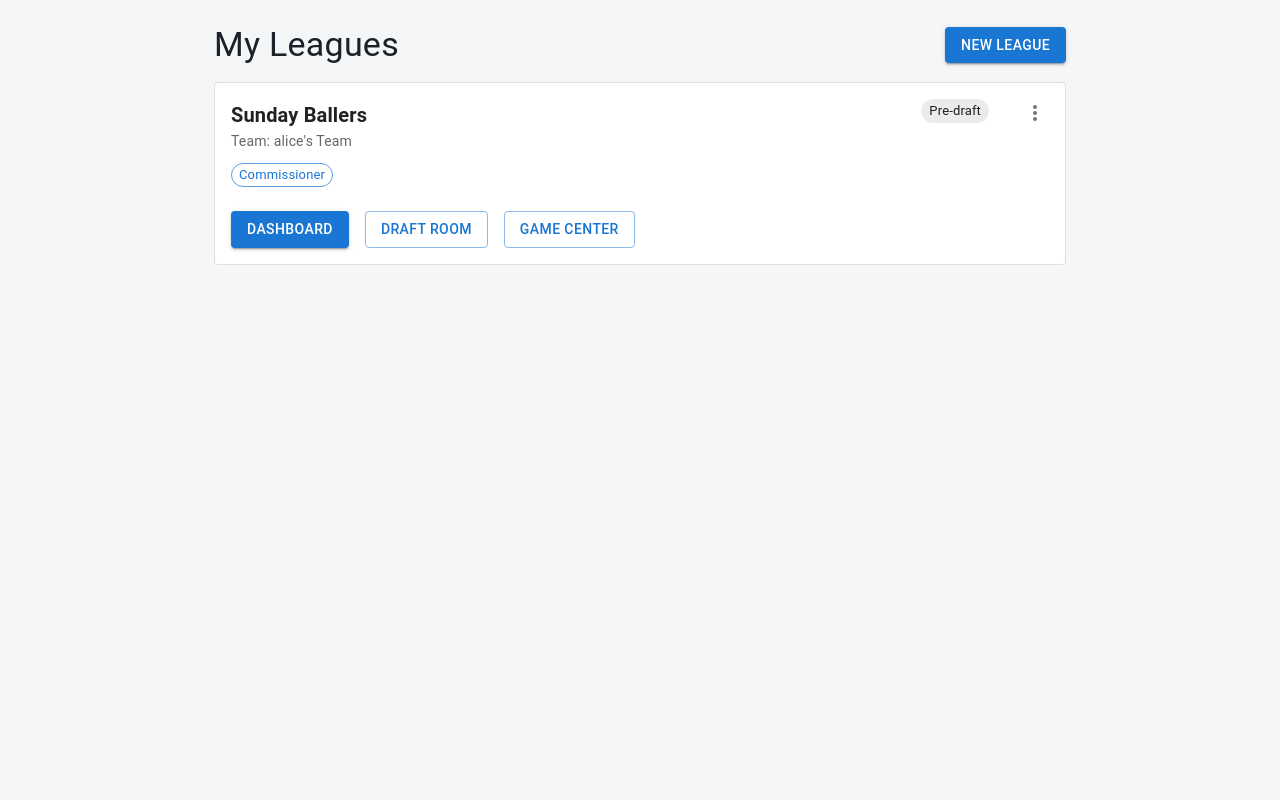
a delete whose refetch fails keeps the card and the error, with no Try again
Check: the heading "Sunday Ballers" is shown, box 231,99 -> 367,131
Click the button named "League actions for ".
click(1035, 113)  # box 1013,91 -> 1057,135
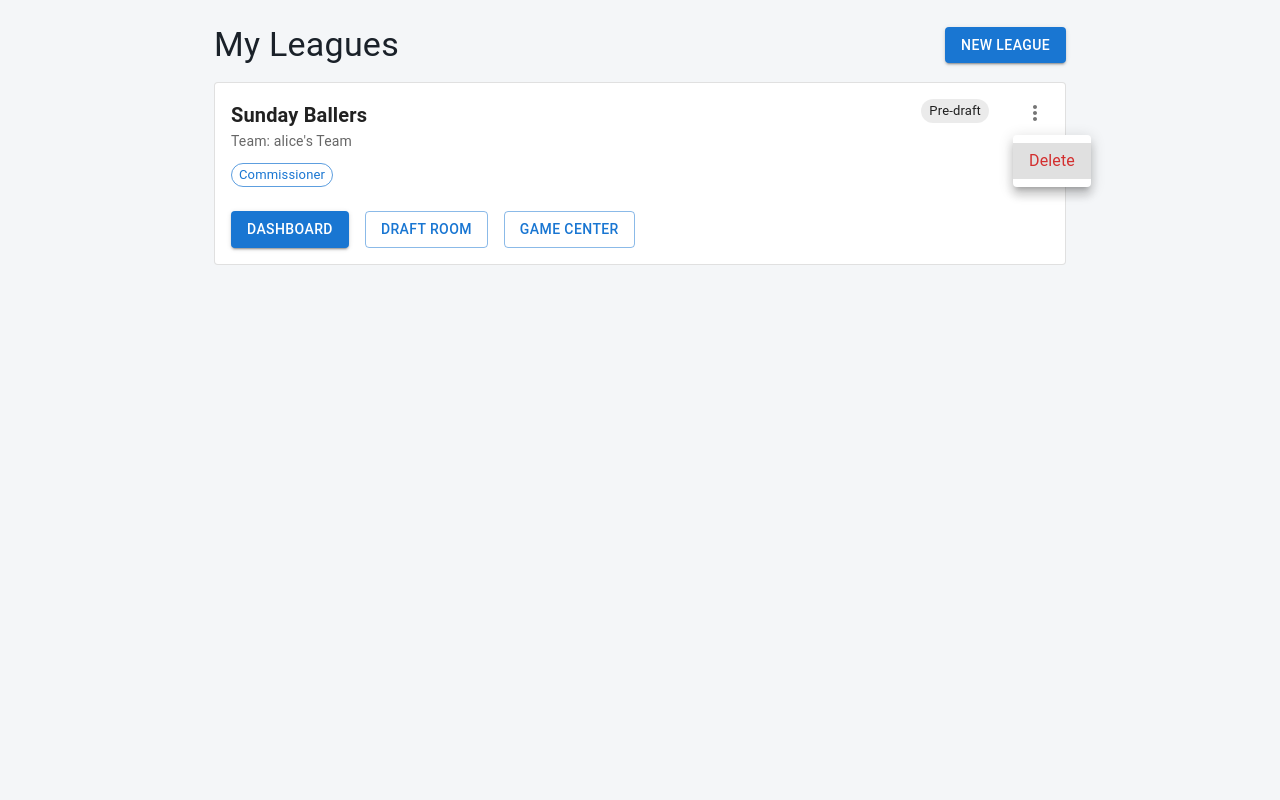
Click the menu item "Delete".
click(1052, 161)  # box 1013,143 -> 1091,179
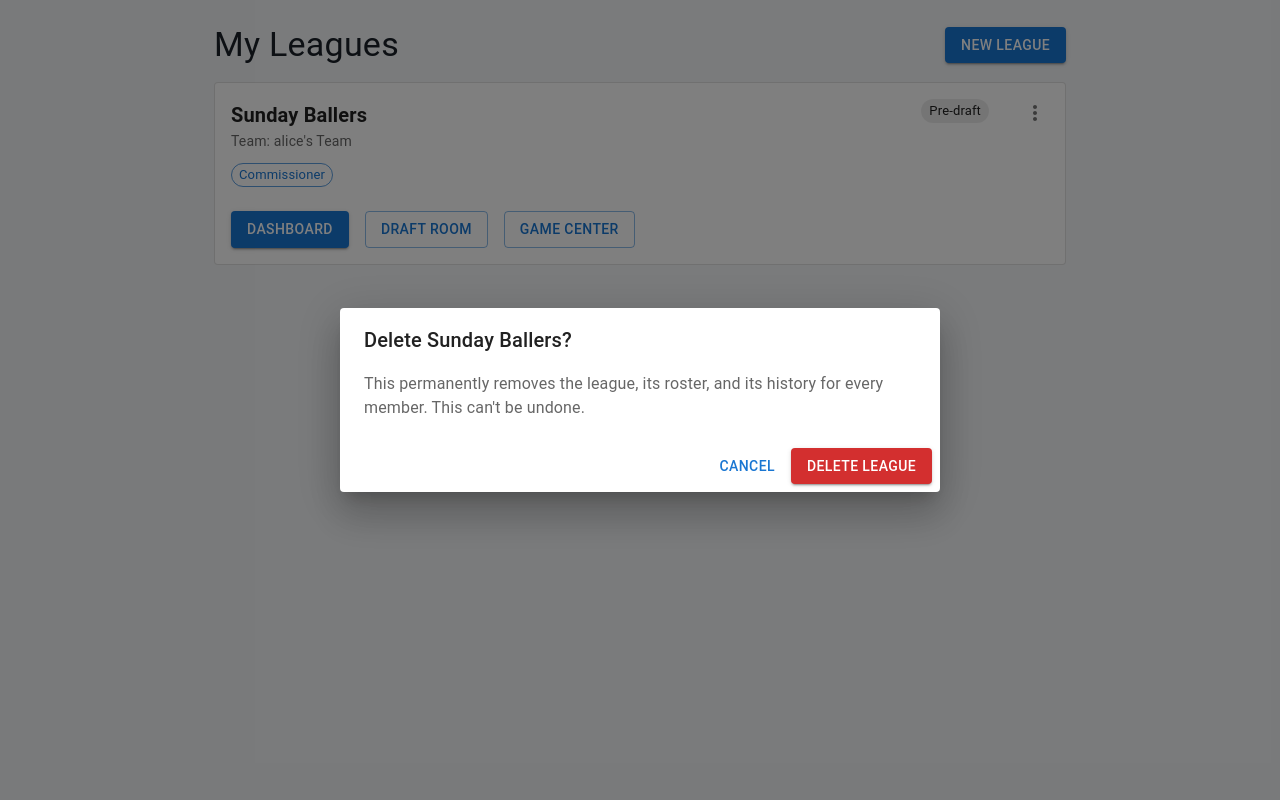
Click the button "Delete League".
click(861, 466)  # box 791,448 -> 932,484
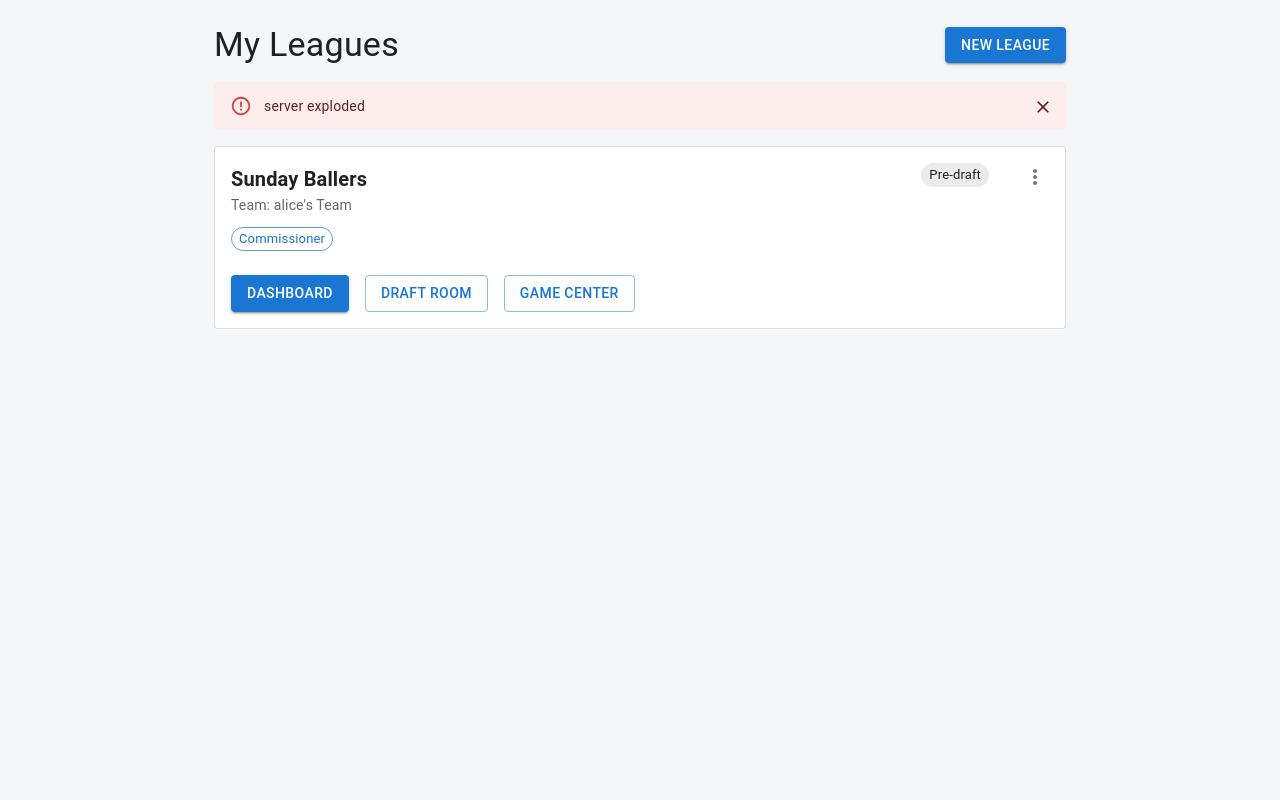
Check: the heading "Sunday Ballers" is shown, box 231,163 -> 367,195
Check: the text "server exploded" is shown, box 264,98 -> 365,114
